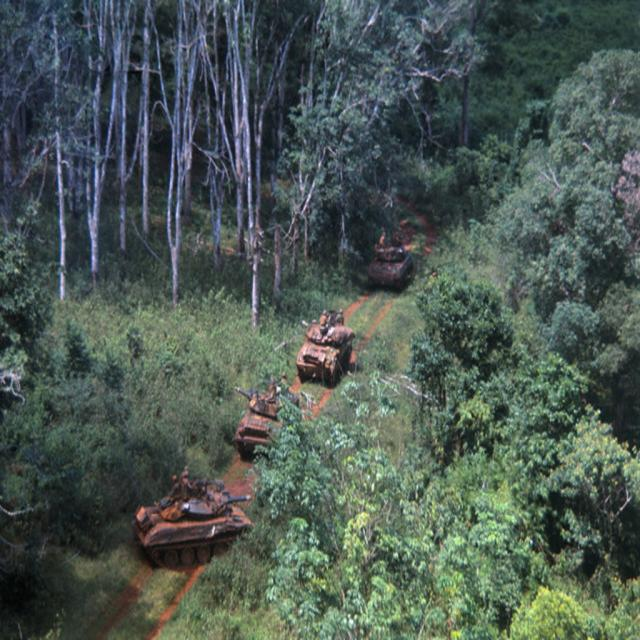tank: (130, 478, 255, 573), (231, 378, 301, 460), (294, 307, 354, 383), (368, 235, 411, 290)
